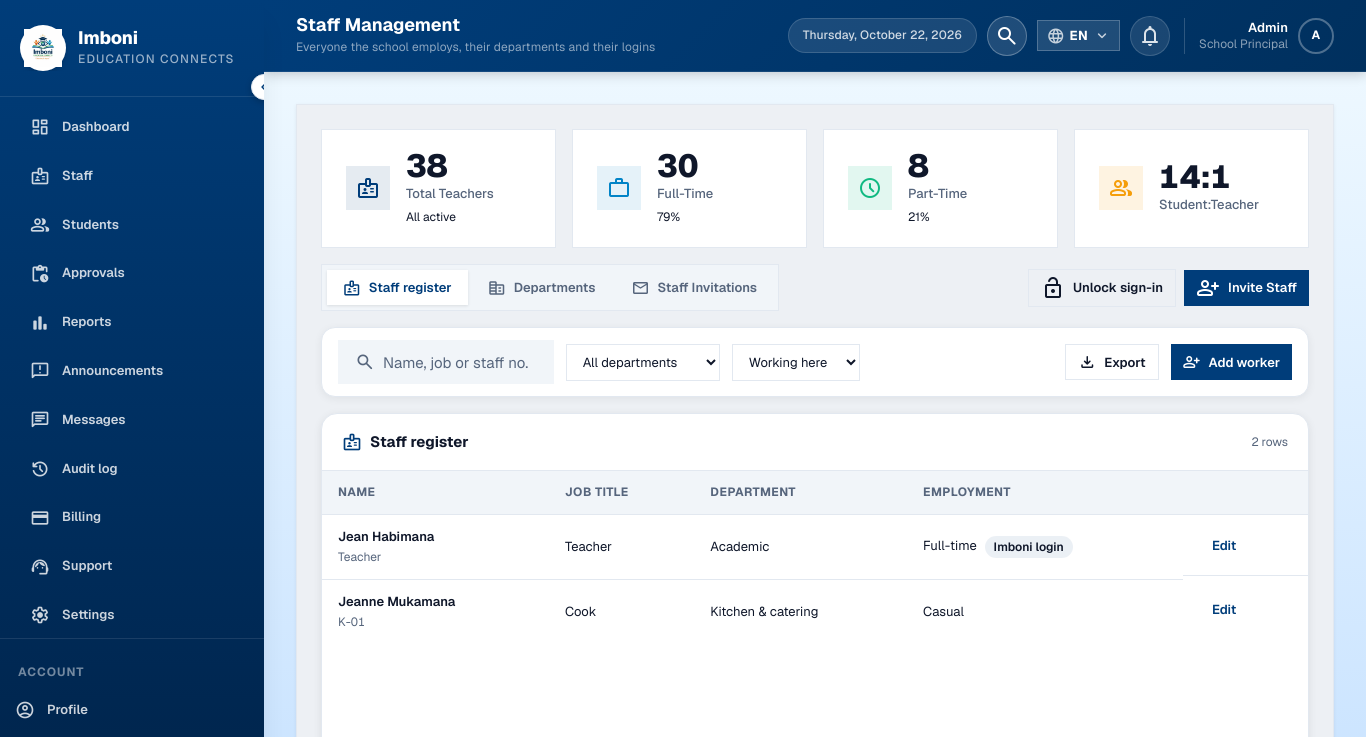
AdminStaff › keeps an account holder’s name on the account
Expected: the text "Jean Habimana" is shown, top-left (338, 528), bottom-right (434, 545)
Click the button "Edit" in the row of "Jean Habimana" at [1224, 545], box top-left (1199, 527), bottom-right (1249, 563)
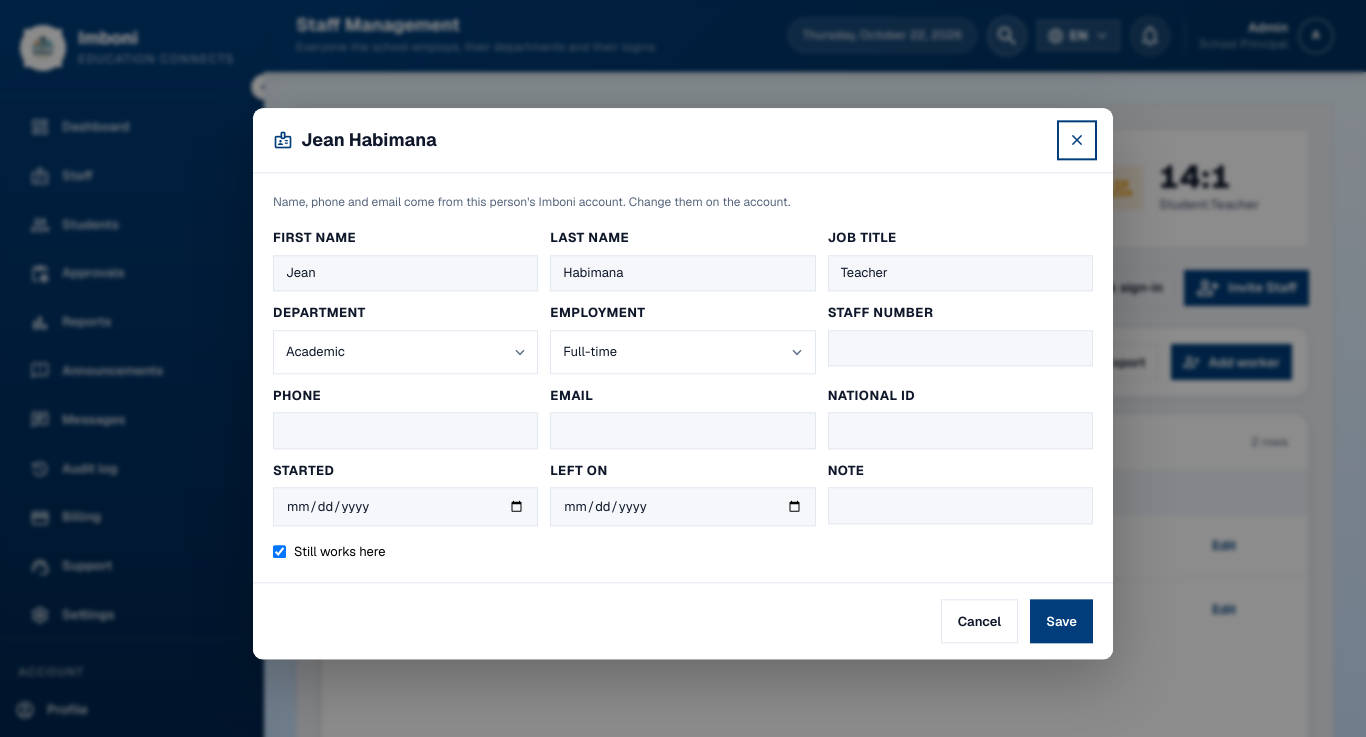
Result: the field labelled "First name" is disabled at top-left (273, 255), bottom-right (538, 292)
Result: the dropdown labelled "Department" is enabled at top-left (273, 330), bottom-right (538, 374)
